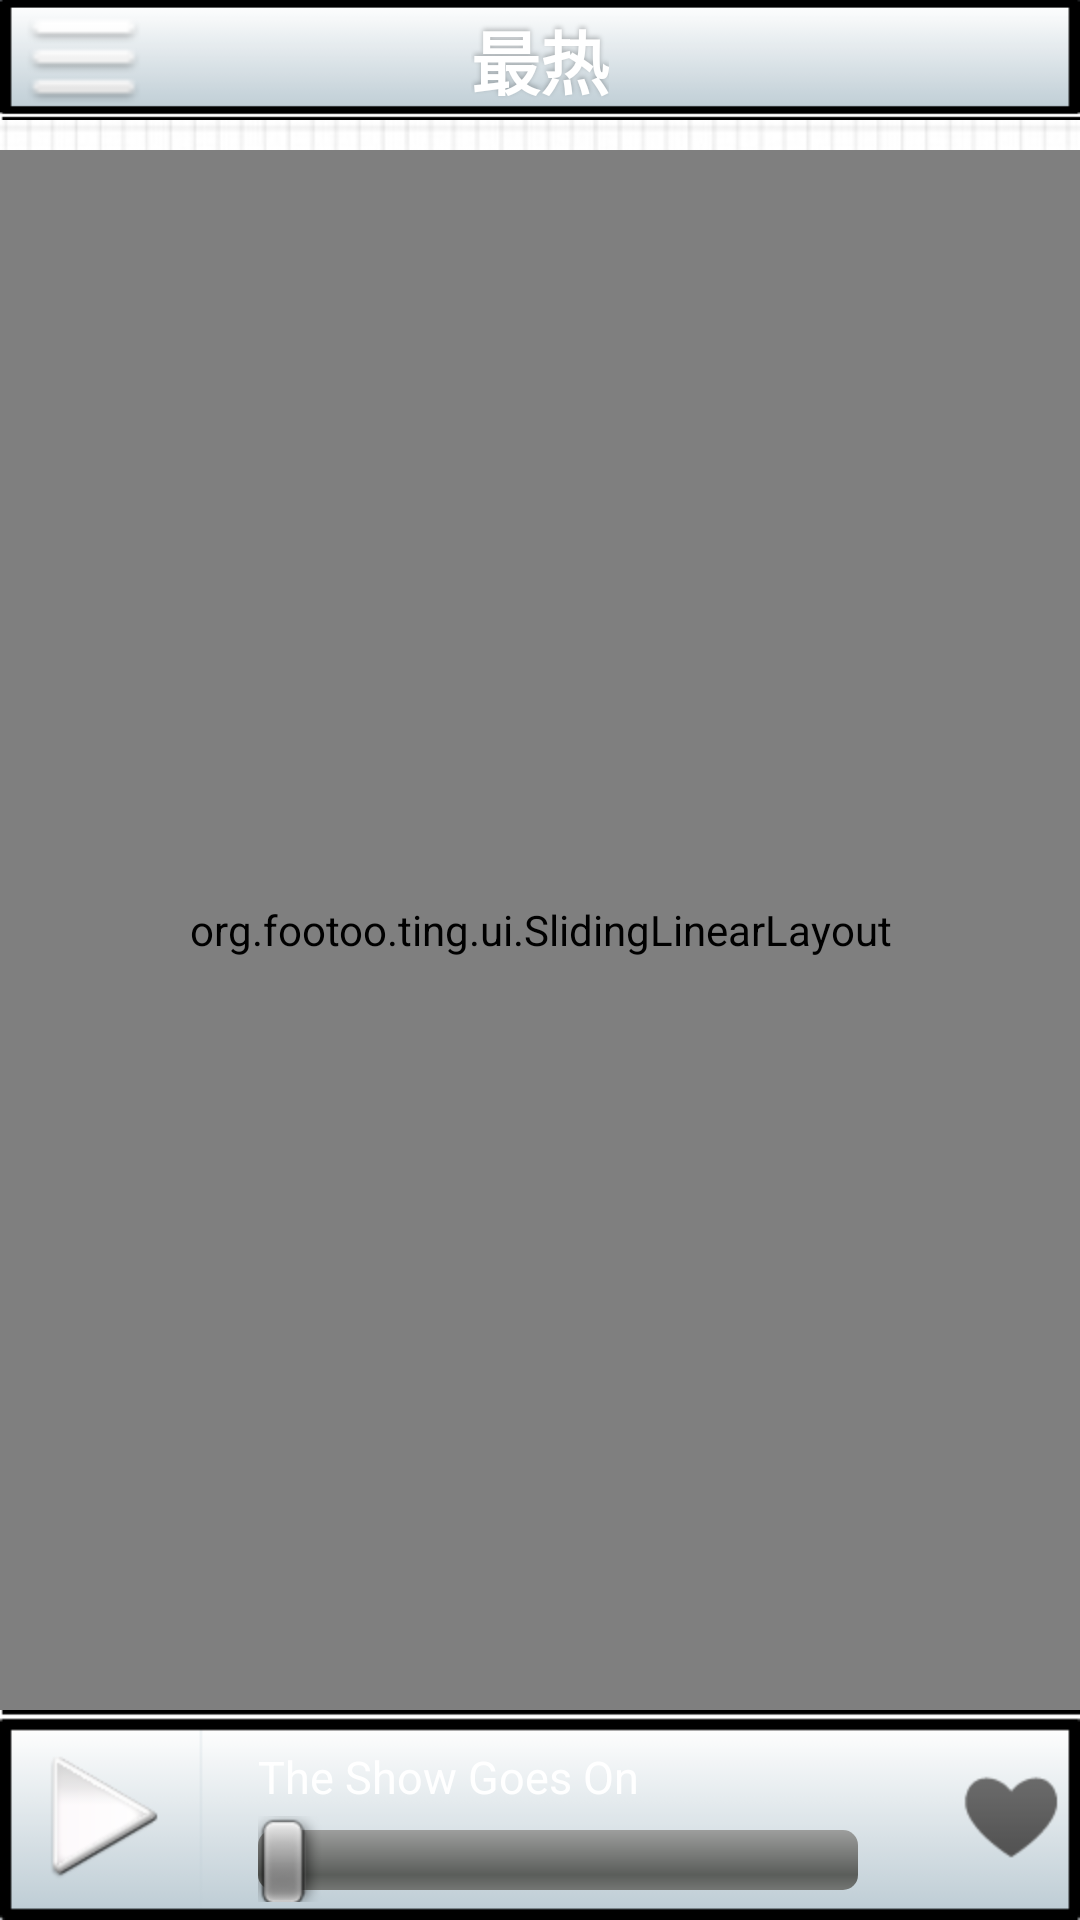

Named icons in this screenshot (1080*1920) and their centers, (x,y):
favorate: (1011,1815)
play: (101,1815)
